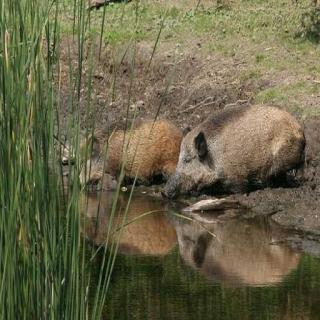Pig: (162, 91, 320, 212), (61, 116, 205, 202)
